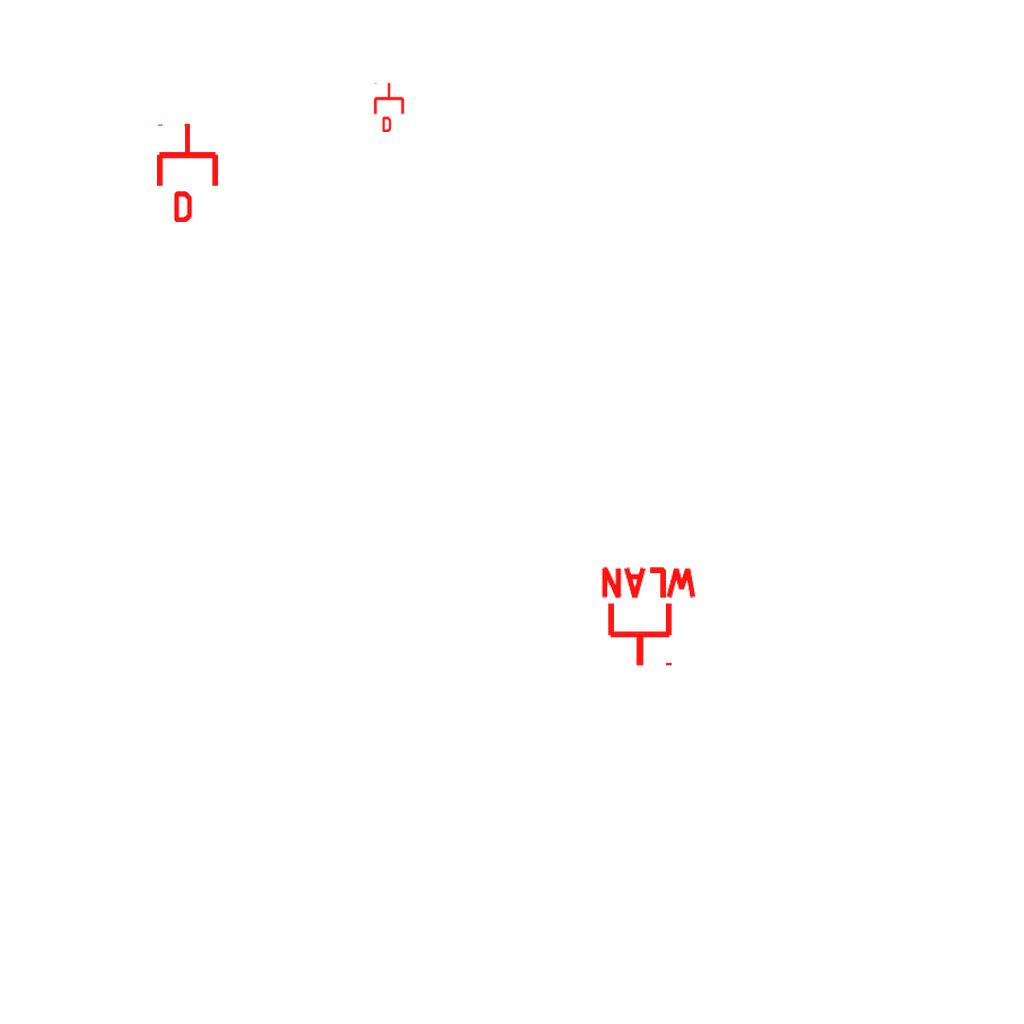Datenanschluss_einfach: (153, 122, 222, 222), (372, 82, 406, 132)
WLAN: (597, 565, 701, 670)
